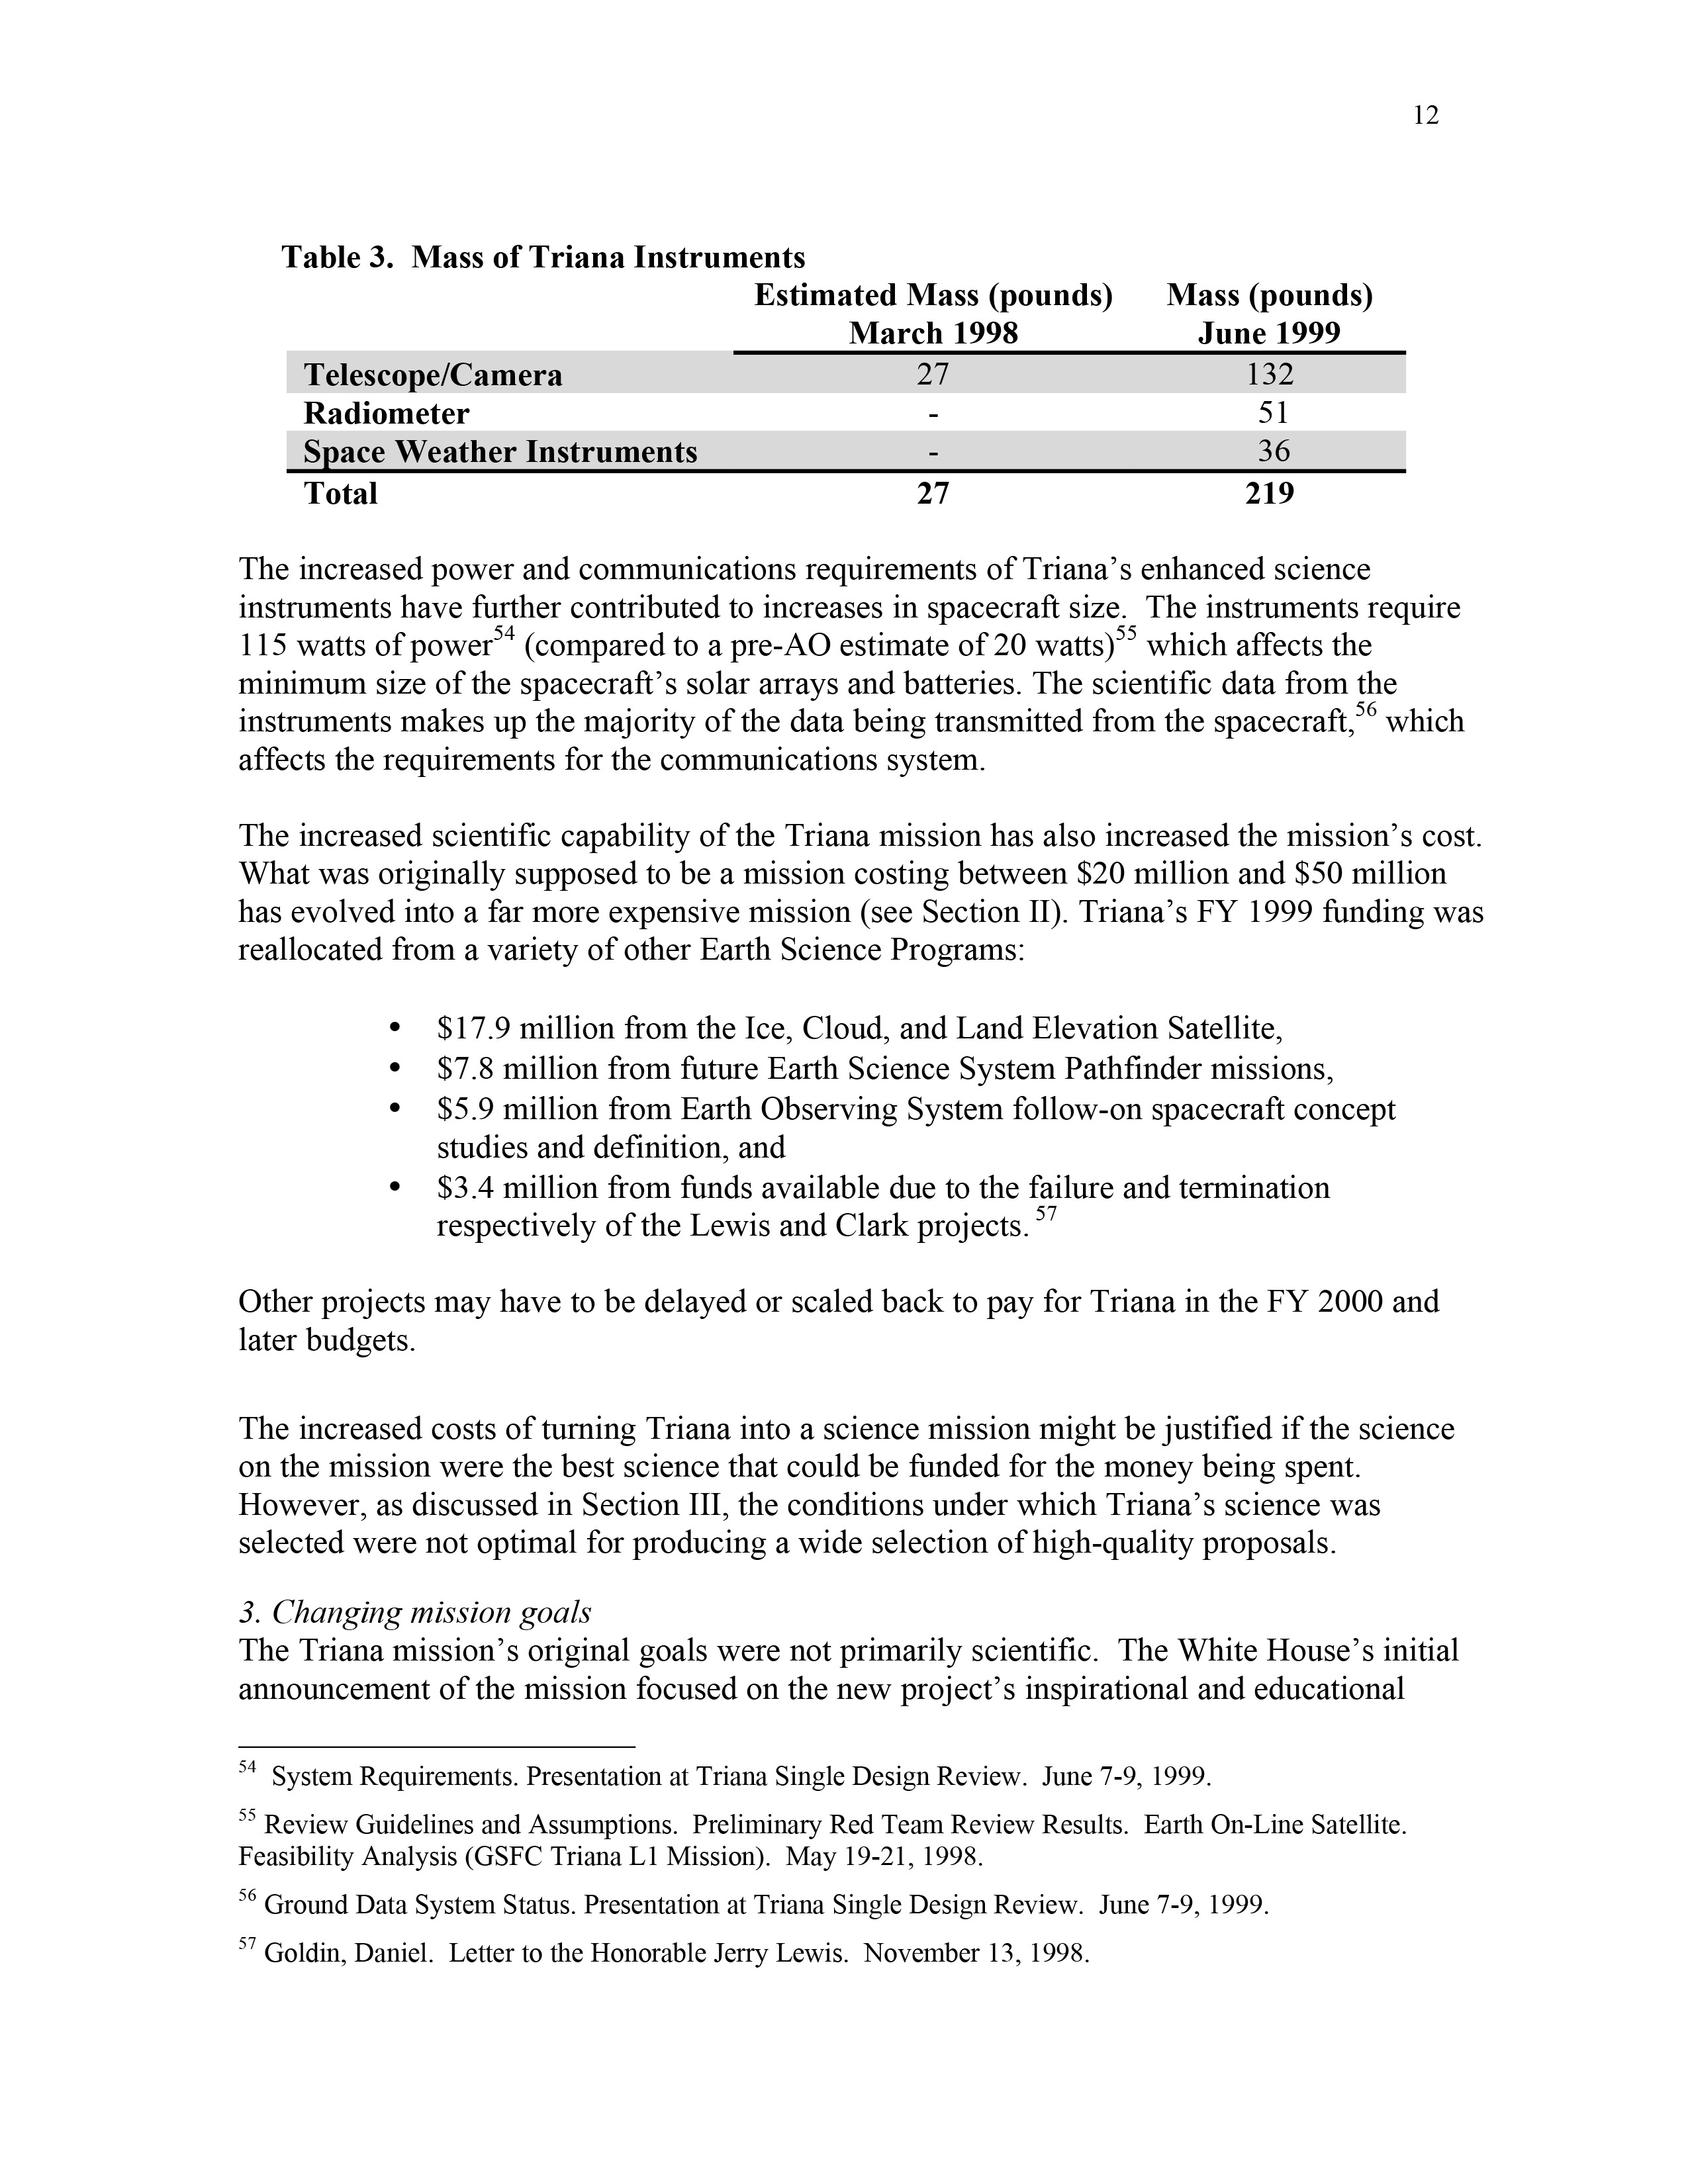caption: (268, 218, 837, 277)
list: (367, 987, 1424, 1259), (241, 1748, 1418, 1985)
table: (261, 271, 1447, 509)
text: (245, 558, 1491, 780), (222, 1397, 1477, 1565), (234, 815, 1507, 979), (241, 1595, 1477, 1728), (234, 1262, 1447, 1372)
